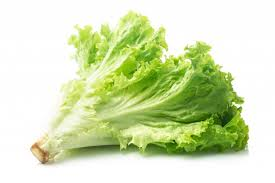lettuce: (32, 16, 247, 162)
